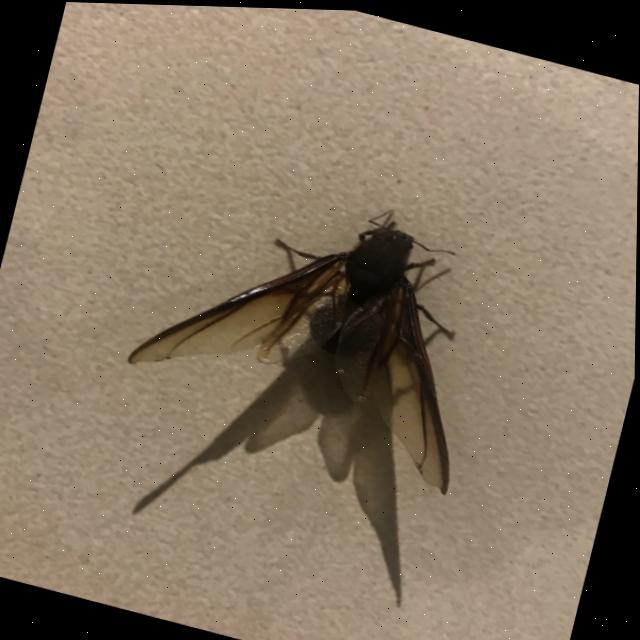Alive-Female-Alate: (115, 149, 512, 493)
